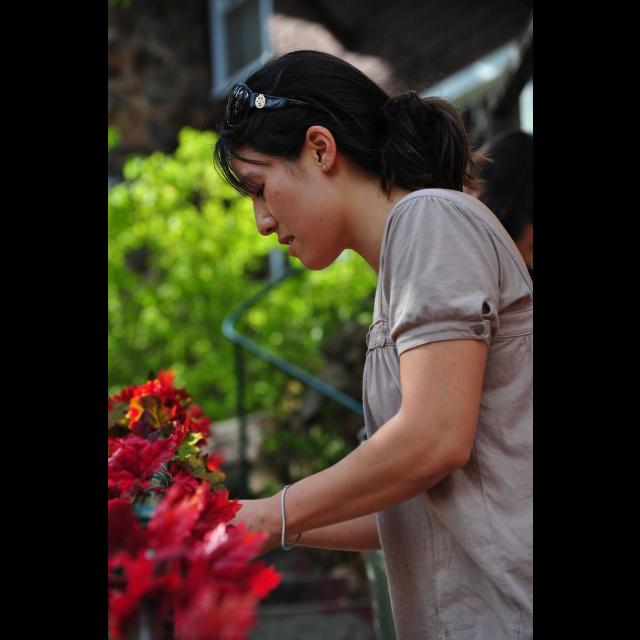Flower: (120, 381, 162, 423)
